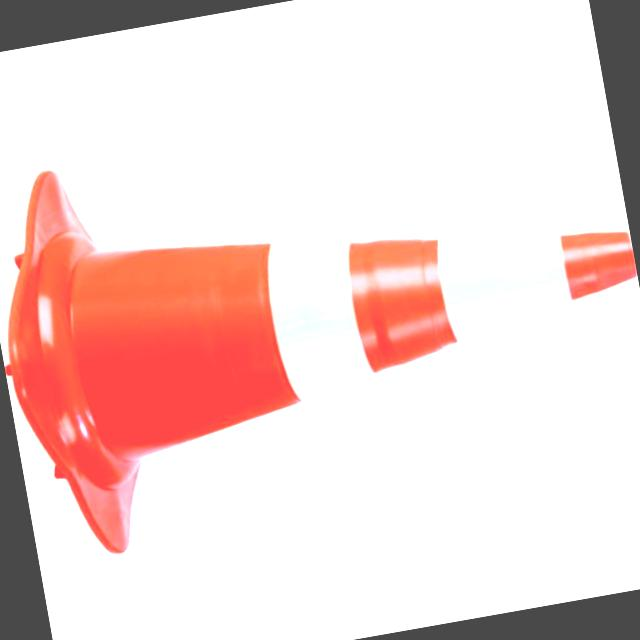cone: (0, 63, 640, 599)
